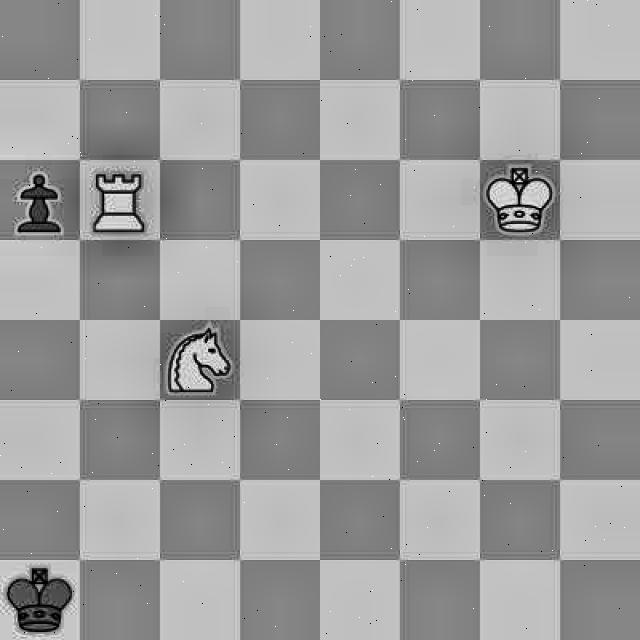black king: (0, 560, 79, 640)
black pawn: (1, 154, 80, 232)
white king: (485, 162, 557, 232)
white rook: (86, 166, 158, 236)
whiteknight: (163, 322, 235, 392)
